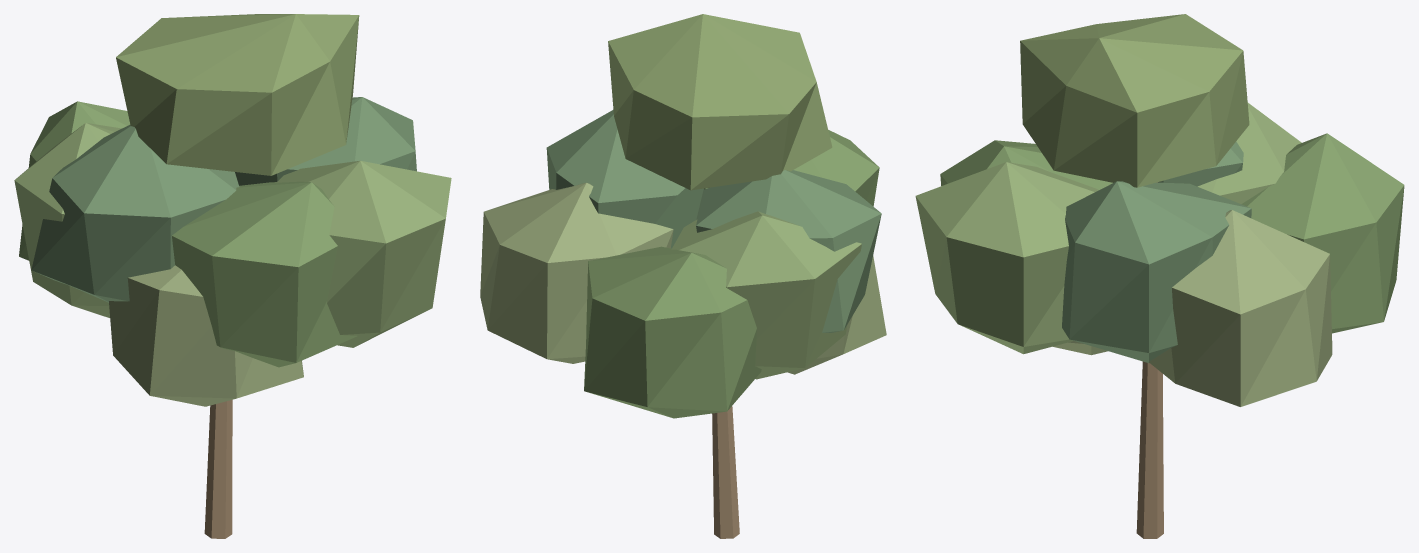
File: tree-2.glb
3 renders of one model, left to right at view 1: azimuth 30°, elevation 25°; view 2: azimuth 150°, elevation 25°; view 3: azimuth 270°, elevation 25°, orthographic. The views are drawn at different scales.
Bounding box in the file's own units: 8.16 × 10.94 × 9.31.
